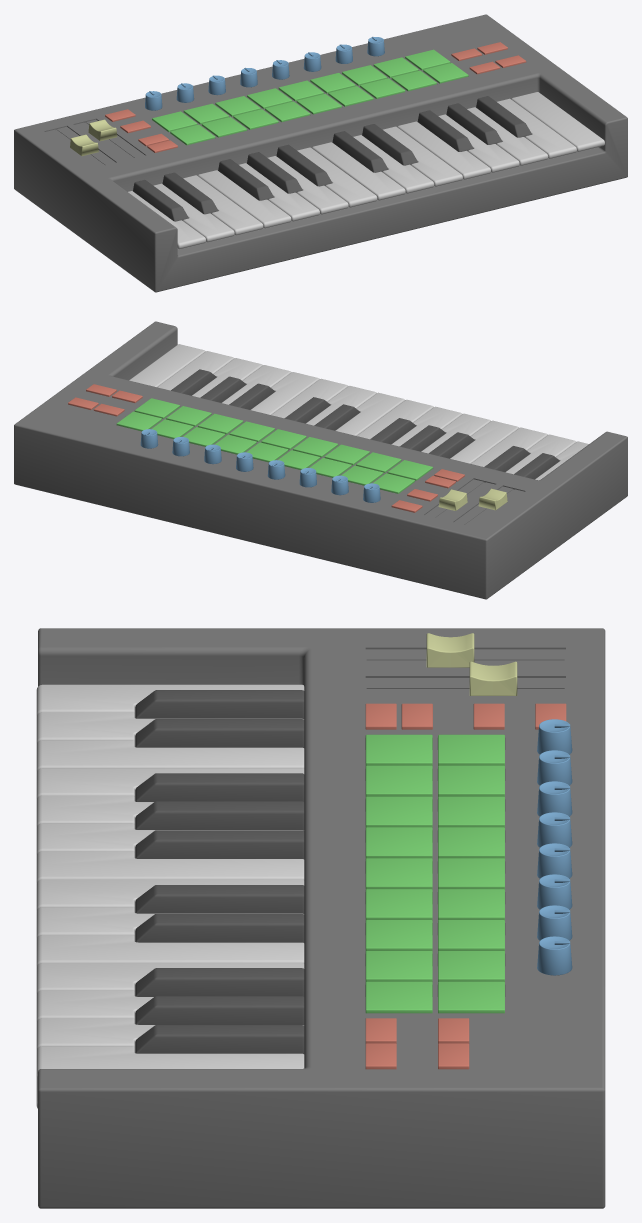
File: Teclado VER2.fbx
The picture shows the model from 3 angles, top to bottom: view 1: azimuth 30°, elevation 25°; view 2: azimuth 150°, elevation 25°; view 3: azimuth 270°, elevation 25°; orthographic projection. The views are drawn at different scales.
Visible parts, largest first — view 1: Caixa, Teclas Brancas, Pad, Teclas Pretas, Volume, Configuracao, Balanco; view 2: Caixa, Teclas Brancas, Pad, Teclas Pretas, Volume, Configuracao, Balanco; view 3: Caixa, Teclas Brancas, Teclas Pretas, Pad, Volume, Configuracao, Balanco.
Part boxes in pixels (x1=…): Caixa: x1=14, y1=14, x2=627, y2=292; Teclas Brancas: x1=128, y1=92, x2=604, y2=249; Pad: x1=152, y1=49, x2=468, y2=145; Teclas Pretas: x1=133, y1=96, x2=531, y2=221; Volume: x1=145, y1=36, x2=384, y2=110; Configuracao: x1=105, y1=42, x2=526, y2=152; Balanco: x1=70, y1=119, x2=117, y2=156; Caixa: x1=14, y1=321, x2=627, y2=599; Teclas Brancas: x1=129, y1=344, x2=588, y2=480; Pad: x1=116, y1=398, x2=432, y2=493; Teclas Pretas: x1=171, y1=369, x2=559, y2=479; Volume: x1=140, y1=429, x2=380, y2=502; Configuracao: x1=68, y1=384, x2=464, y2=512; Balanco: x1=438, y1=488, x2=507, y2=510; Caixa: x1=38, y1=628, x2=605, y2=1208; Teclas Brancas: x1=36, y1=684, x2=304, y2=1108; Teclas Pretas: x1=135, y1=690, x2=304, y2=1053; Pad: x1=365, y1=734, x2=504, y2=1013; Volume: x1=537, y1=719, x2=572, y2=975; Configuracao: x1=365, y1=703, x2=566, y2=1069; Balanco: x1=426, y1=633, x2=517, y2=695.
Bounding box in the file's own units: 858 × 128 × 447.
